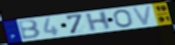4: (43, 16, 62, 37)
7: (65, 13, 86, 35)
B: (16, 19, 43, 41)
H: (85, 10, 112, 33)
O: (113, 9, 135, 28)
V: (130, 5, 153, 27)
